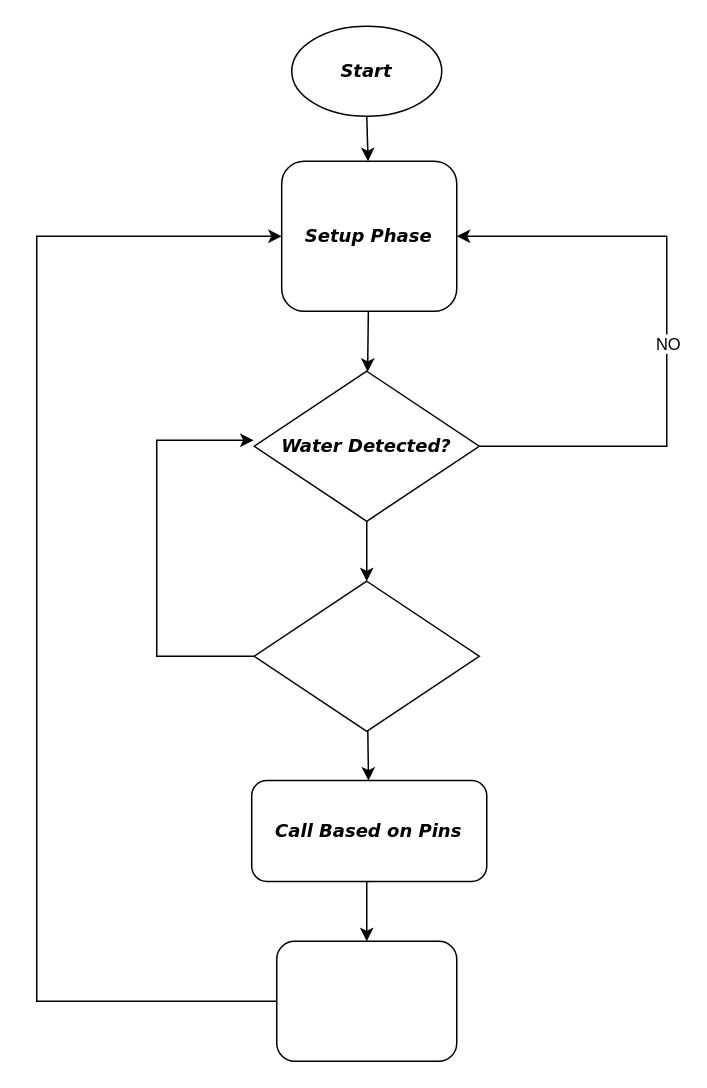
This 707x1088 diagram has some shape labels left out. The centre of each missing label's shape, as x and y in pixels:
Delay 5 min: point (366, 1000)
Initial Wait Done?: point (366, 655)
